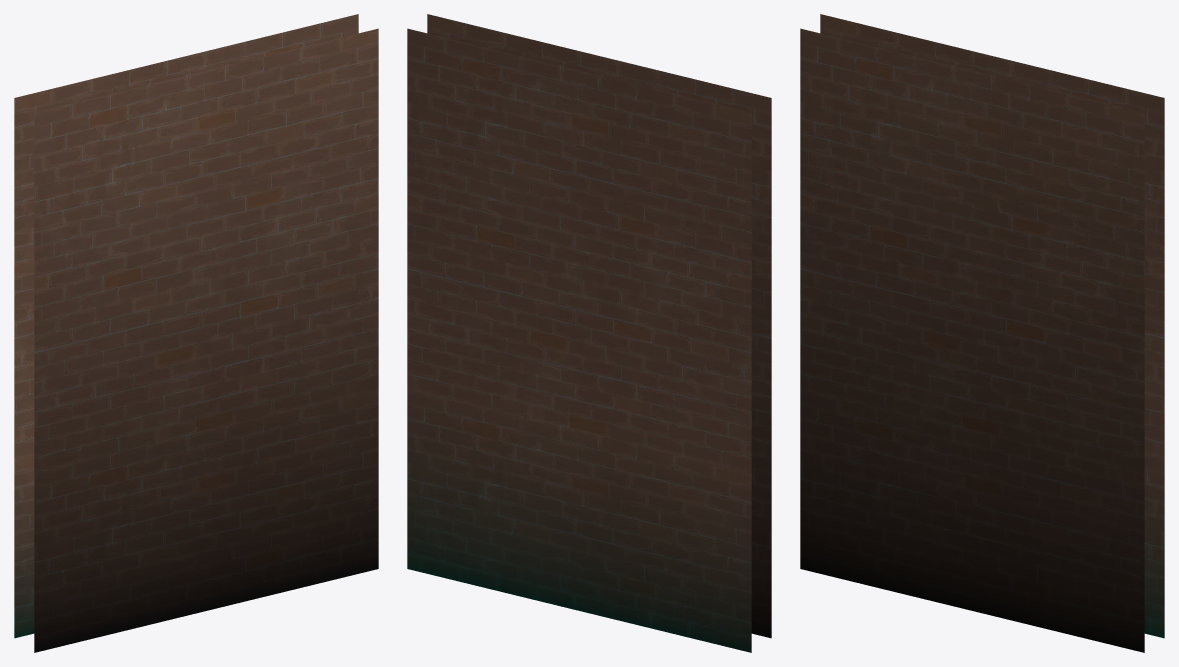
File: Brick_Plain_3.glb
The picture shows the model from 3 angles, left to right: view 1: azimuth 30°, elevation 25°; view 2: azimuth 150°, elevation 25°; view 3: azimuth 330°, elevation 25°; orthographic projection.
Visible parts, largest first — view 1: Brick_Plain_3; view 2: Brick_Plain_3; view 3: Brick_Plain_3.
Boxes of the visible parts, box(x1,y1,x2,y2) form: Brick_Plain_3: box(14, 14, 378, 652); Brick_Plain_3: box(407, 14, 771, 652); Brick_Plain_3: box(800, 14, 1164, 652).
Bounding box in the file's own units: 2 × 3 × 0.2.
1 material, 1 textured.
